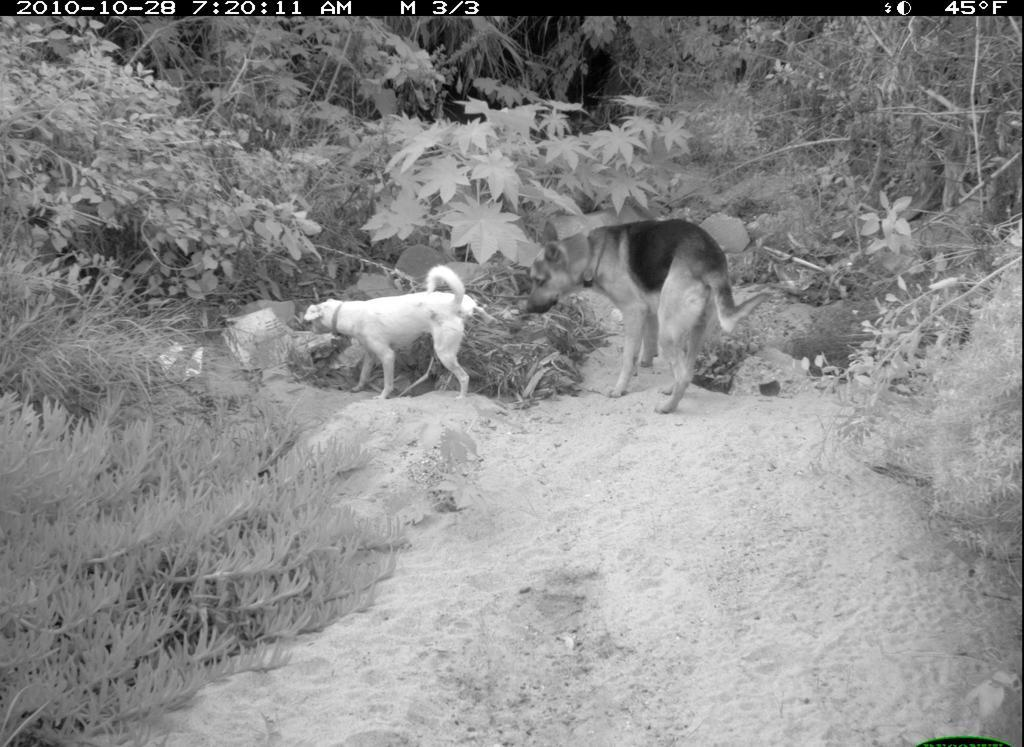dog: (518, 212, 771, 429), (297, 255, 483, 406)
